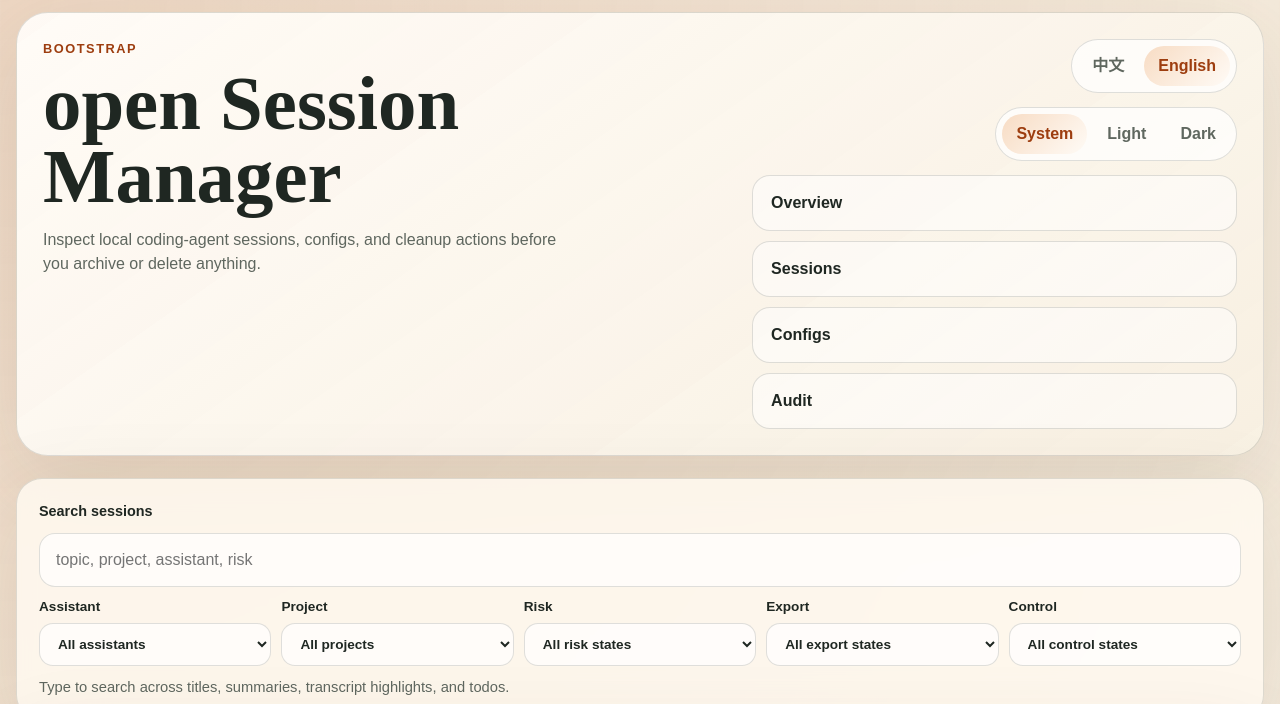
App › 搜索结果为空时不会继续展示不匹配的旧详情
This screenshot has width=1280, height=704.
Type "definitely-no-match" into the search field labelled "Search sessions" at (640, 560), box [39, 533, 1241, 587]
(page scrolled)
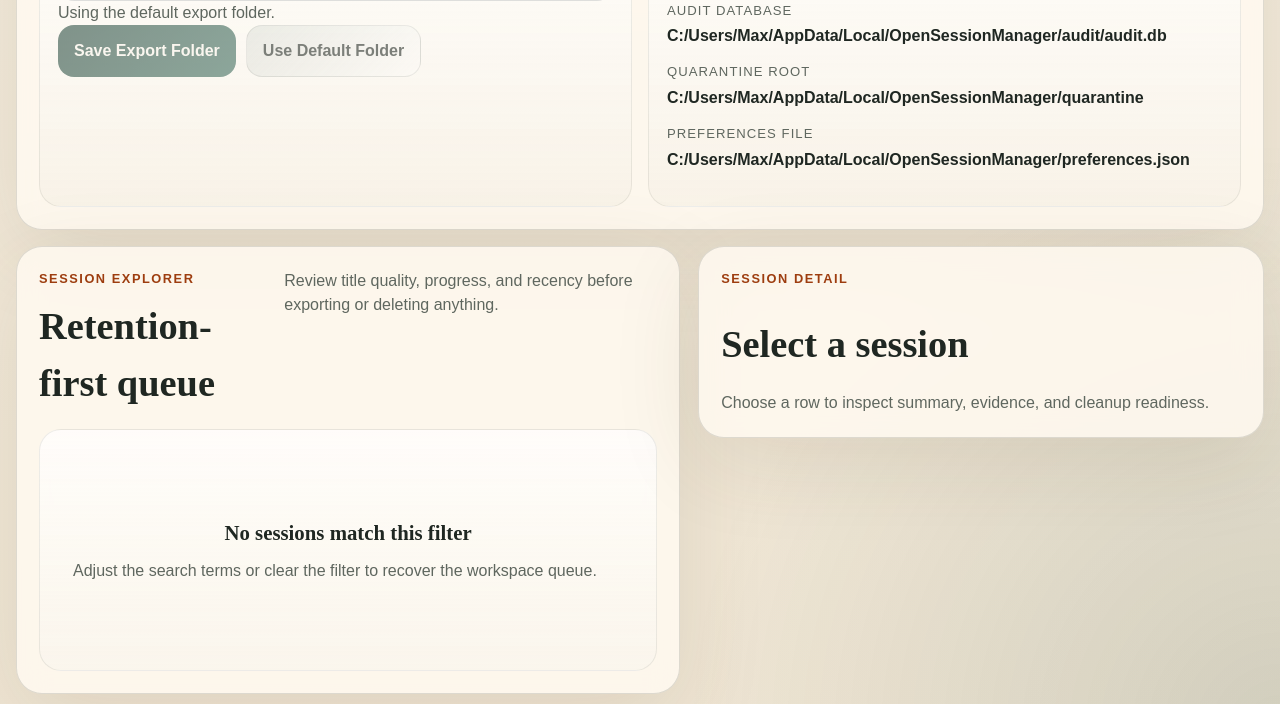
Check: the heading "Select a session" is shown, box [721, 323, 969, 365]
